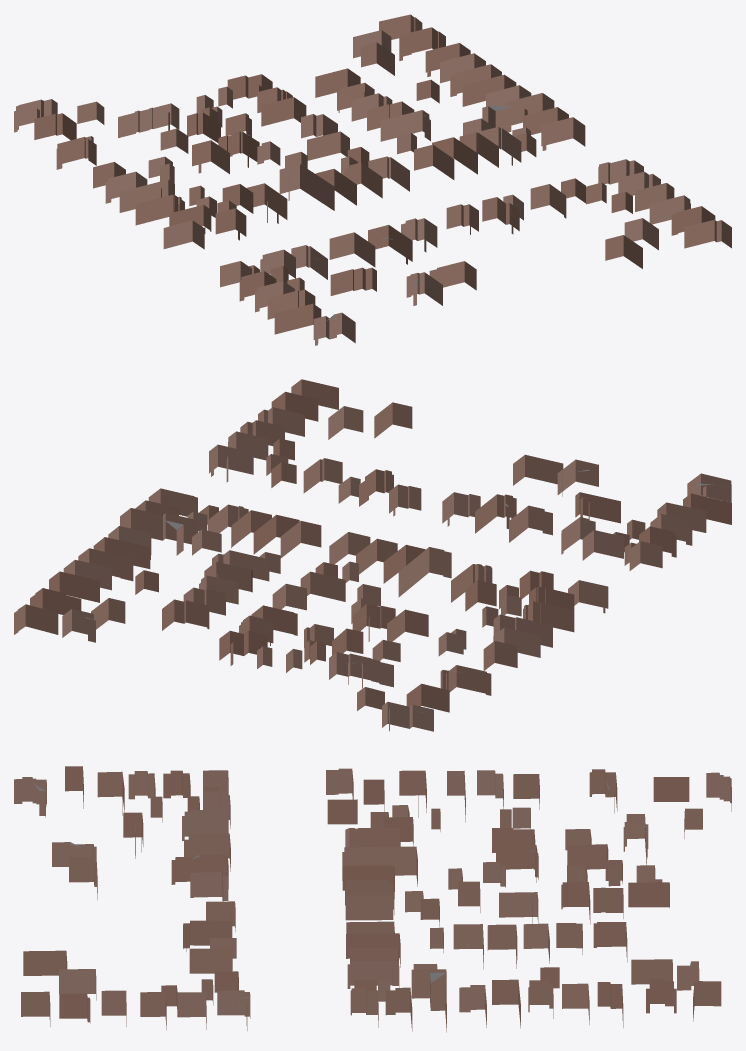
The model's file is c_1639_17829_buildings_residential.glb.
The picture shows the model from 3 angles, top to bottom: view 1: azimuth 30°, elevation 25°; view 2: azimuth 150°, elevation 25°; view 3: azimuth 270°, elevation 25°; orthographic projection. The views are drawn at different scales.
Visible parts, largest first — view 1: geometry_0; view 2: geometry_0; view 3: geometry_0.
Part boxes in pixels (bbox=[...]): geometry_0: bbox=[14, 14, 731, 345]; geometry_0: bbox=[14, 379, 731, 731]; geometry_0: bbox=[14, 766, 731, 1032].
Size of the model in its own units: 202 by 11.08 by 249.
